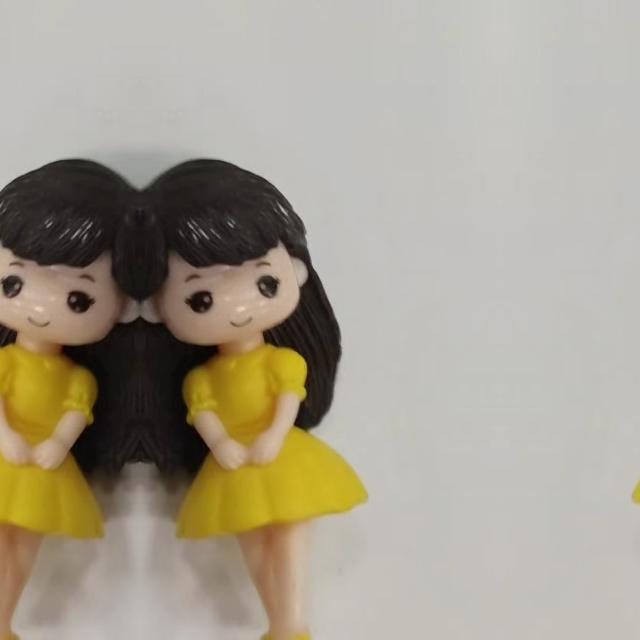woman dress: (176, 338, 358, 640), (0, 338, 104, 640)
woman head: (140, 164, 332, 336), (0, 164, 140, 335)
